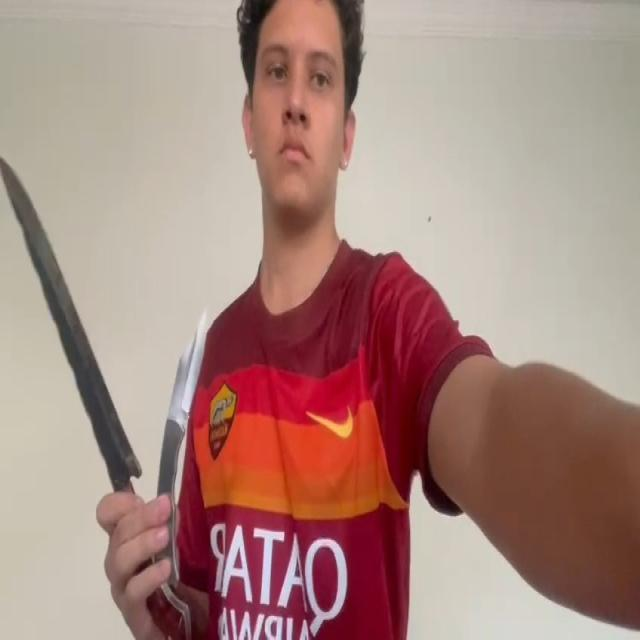knife: (0, 157, 142, 479), (164, 308, 209, 432)
